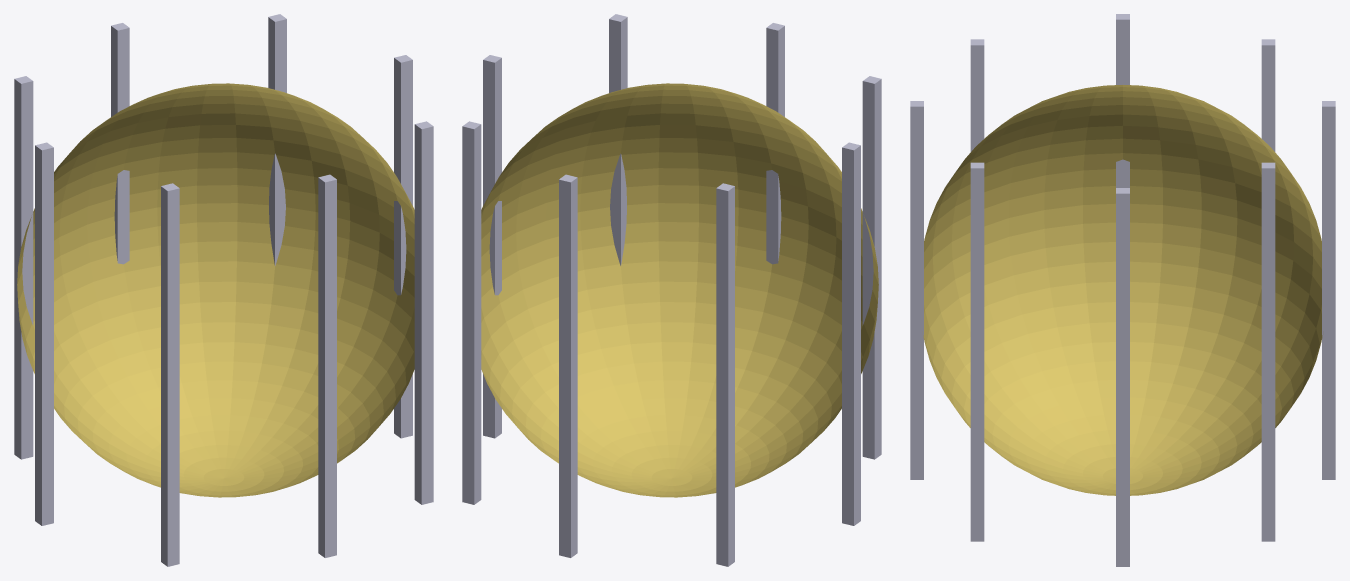
The model's file is 3d-archimedes-sphere-cylinder-20260125.glb.
3 views of the same model, side by side, from view 1: azimuth 30°, elevation 25°; view 2: azimuth 150°, elevation 25°; view 3: azimuth 270°, elevation 25° (orthographic).
Visible parts, largest first — view 1: Sphere, CylinderFrame; view 2: Sphere, CylinderFrame; view 3: Sphere, CylinderFrame.
Boxes of the visible parts, x1,y1,x2,y2 form: Sphere: (17, 83, 414, 497); CylinderFrame: (14, 14, 433, 566); Sphere: (481, 83, 878, 497); CylinderFrame: (462, 14, 881, 566); Sphere: (923, 85, 1322, 495); CylinderFrame: (910, 14, 1335, 566).
Bounding box in the file's own units: 3.1 × 3 × 3.1.
